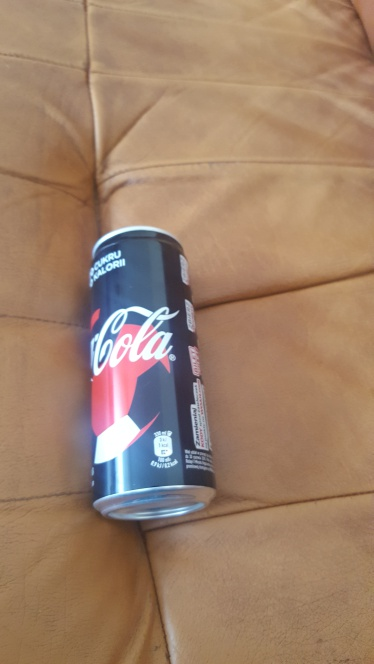colazero: (82, 223, 220, 527)
